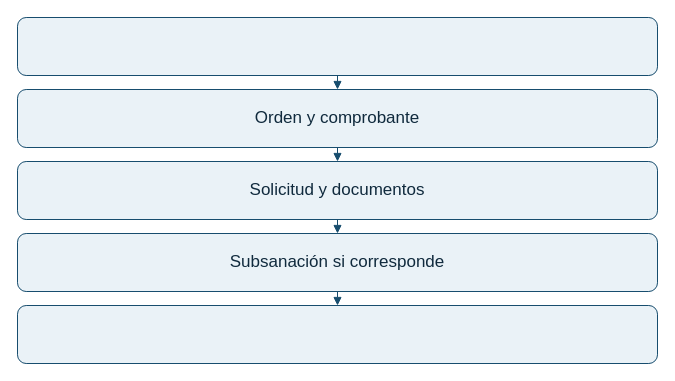
Some shapes in this 675 by 381 pixel diagram are drawn without their labels. The shapes that lost their labels are listed below. From the top down, each one's centre as x and y in pixels, then its label:
pixel 337 46: Compañía y RT habilitados
pixel 337 334: Documentos finales autorizados
